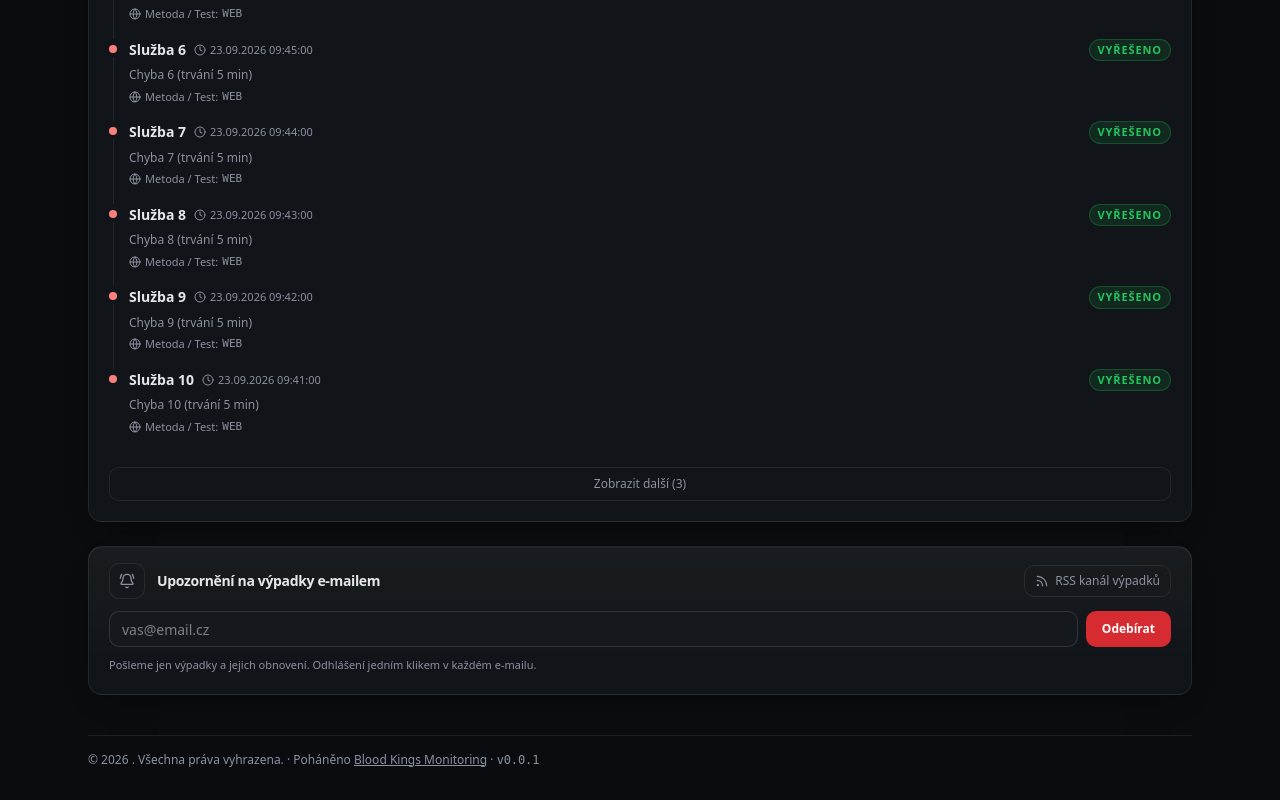
Test case: Veřejná stránka: každý fakt jednou (W2-5) › „Zobrazit další“ počítá řádky, které návštěvník vidí, ne složené kontroly (PUB-08)
(page scrolled)
Click the button "Zobrazit další (3)" at x=640, y=484, box [109,467,1171,501]
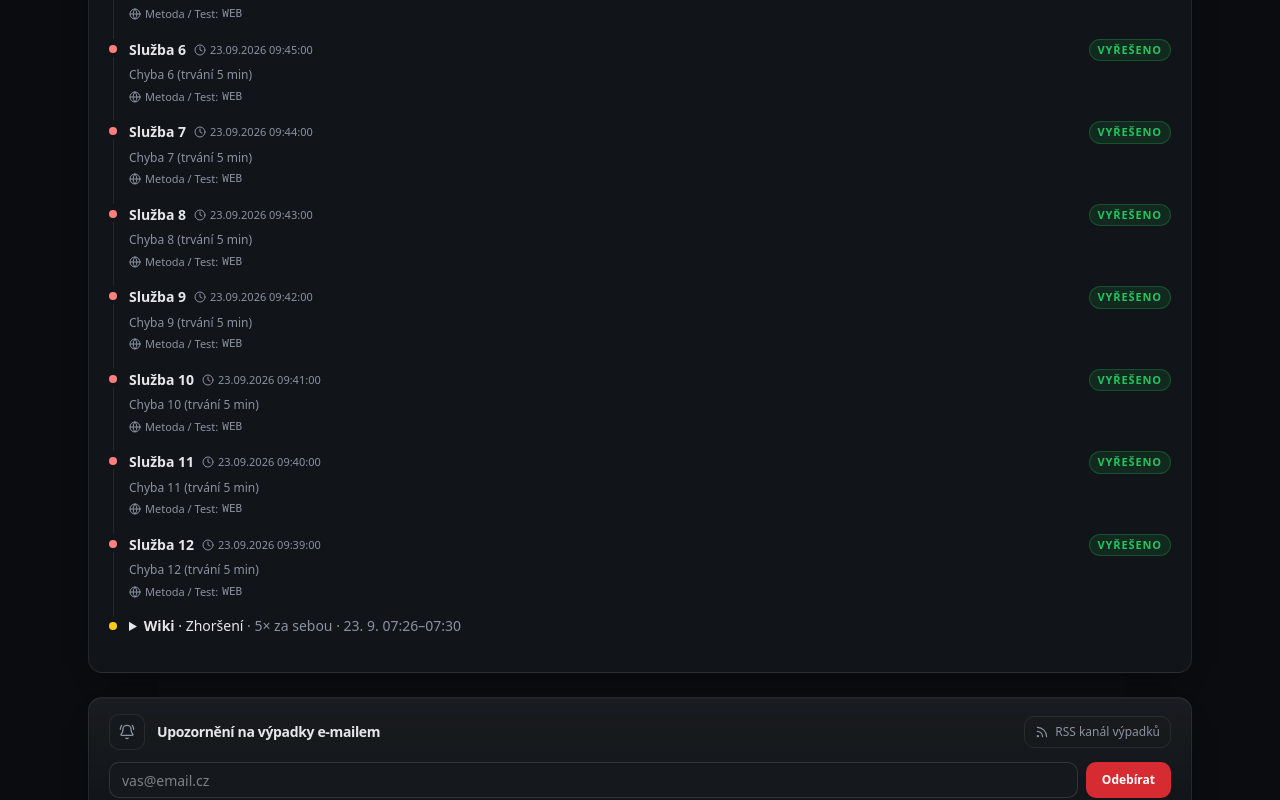
Check: the list item "Wiki · Zhoršení · 5× za sebou · 23. 9. 07:26–07:30" is shown, box [109,616,461,635]
Check: the button "Zobrazit další" is gone
